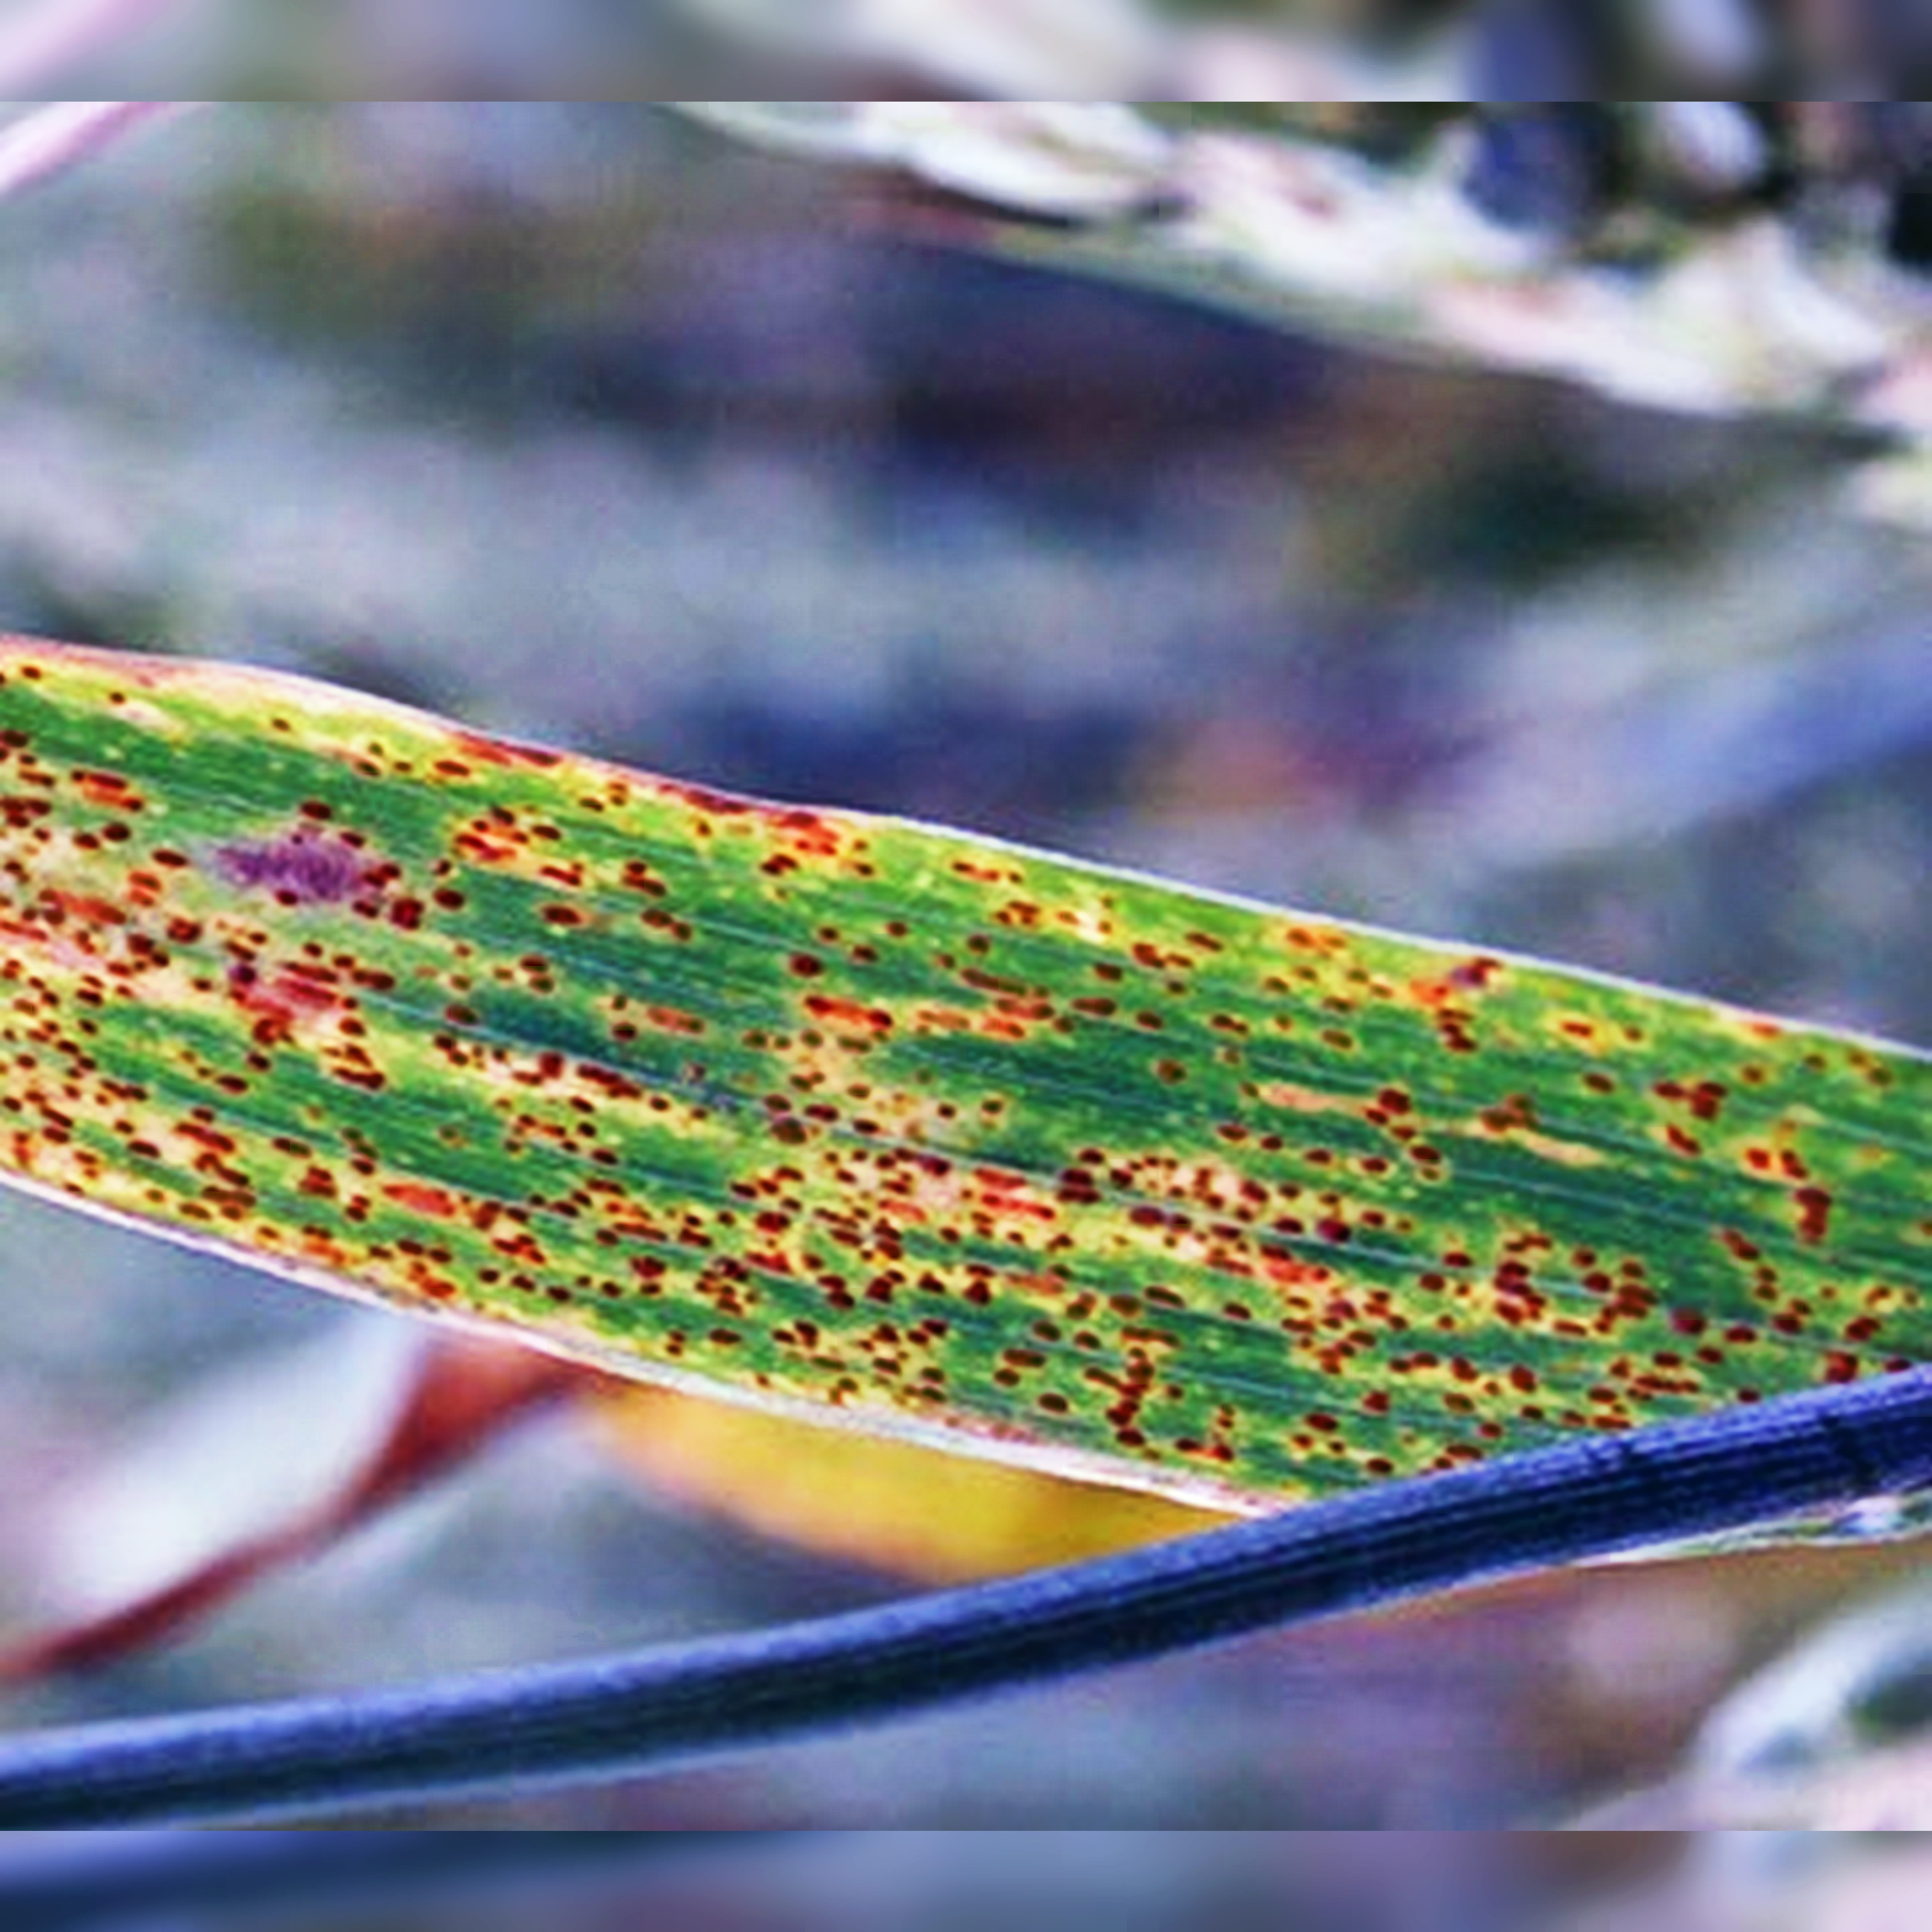Leaf Rust: (65, 685, 1794, 1479)
